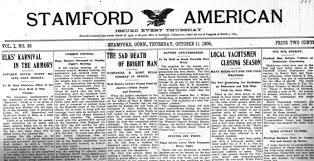Printing industry: (2, 7, 314, 161)
